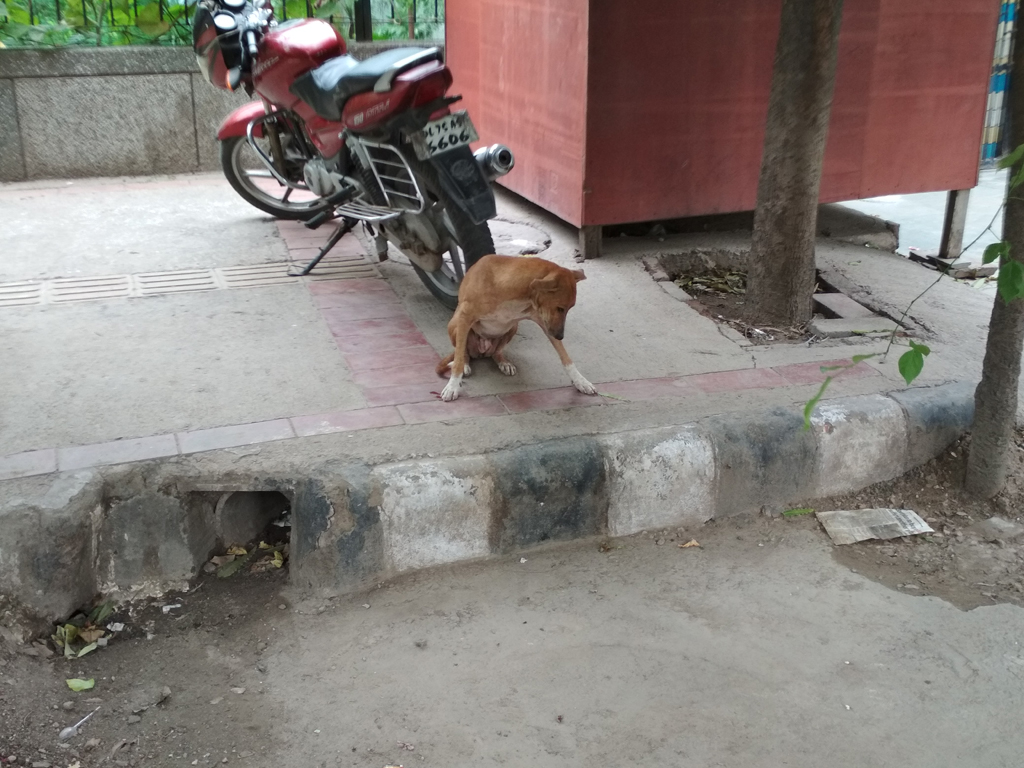dog: (435, 254, 595, 403)
